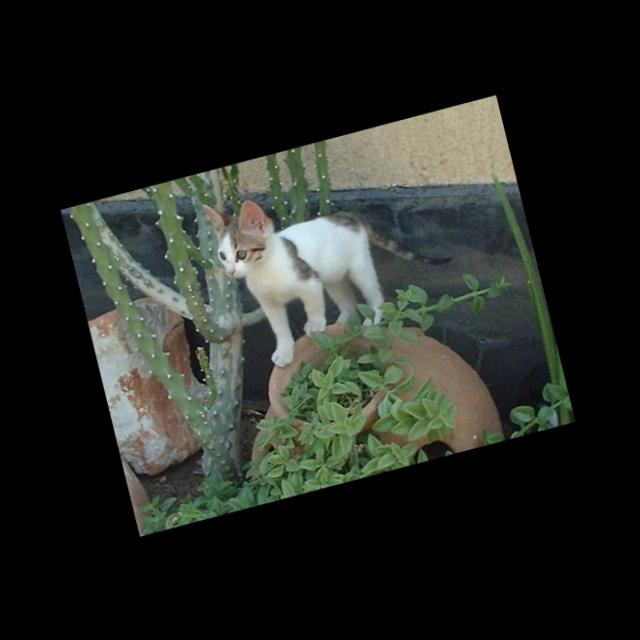animals: (204, 190, 273, 278)
